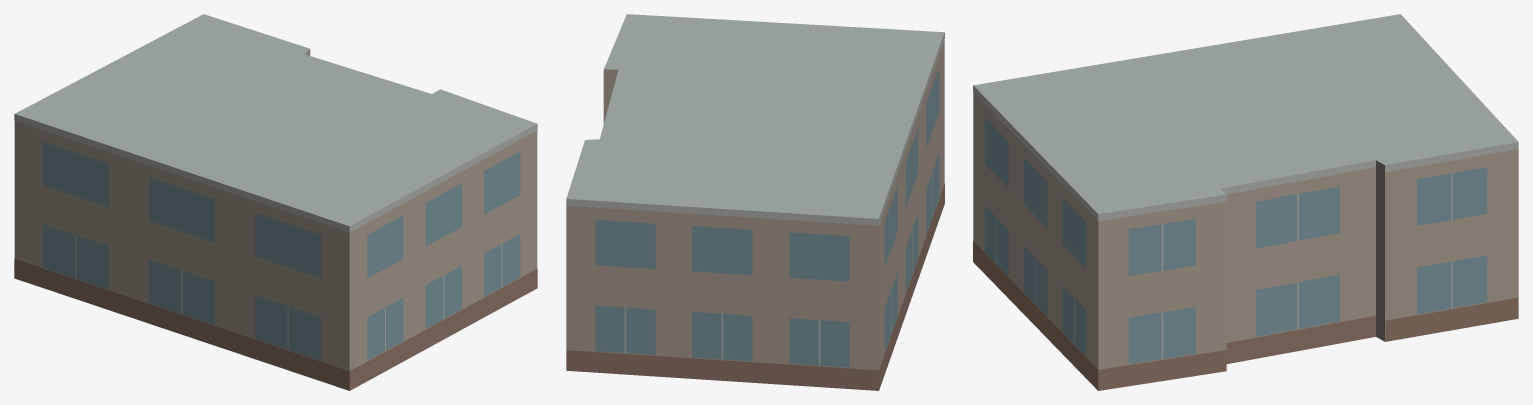
Rendered from survey-upis-32466068.glb.
The picture shows the model from 3 angles, left to right: view 1: azimuth 30°, elevation 25°; view 2: azimuth 150°, elevation 25°; view 3: azimuth 270°, elevation 25°; orthographic projection. The views are drawn at different scales.
Visible parts, largest first — view 1: survey-upis-32466068.tmp; view 2: survey-upis-32466068.tmp; view 3: survey-upis-32466068.tmp.
Part boxes in pixels (box(x1,y1,x2,y2)): survey-upis-32466068.tmp: box(14, 14, 537, 390); survey-upis-32466068.tmp: box(566, 14, 944, 390); survey-upis-32466068.tmp: box(973, 14, 1518, 390).
Bounding box in the file's own units: 14.84 × 6.1 × 17.08.
